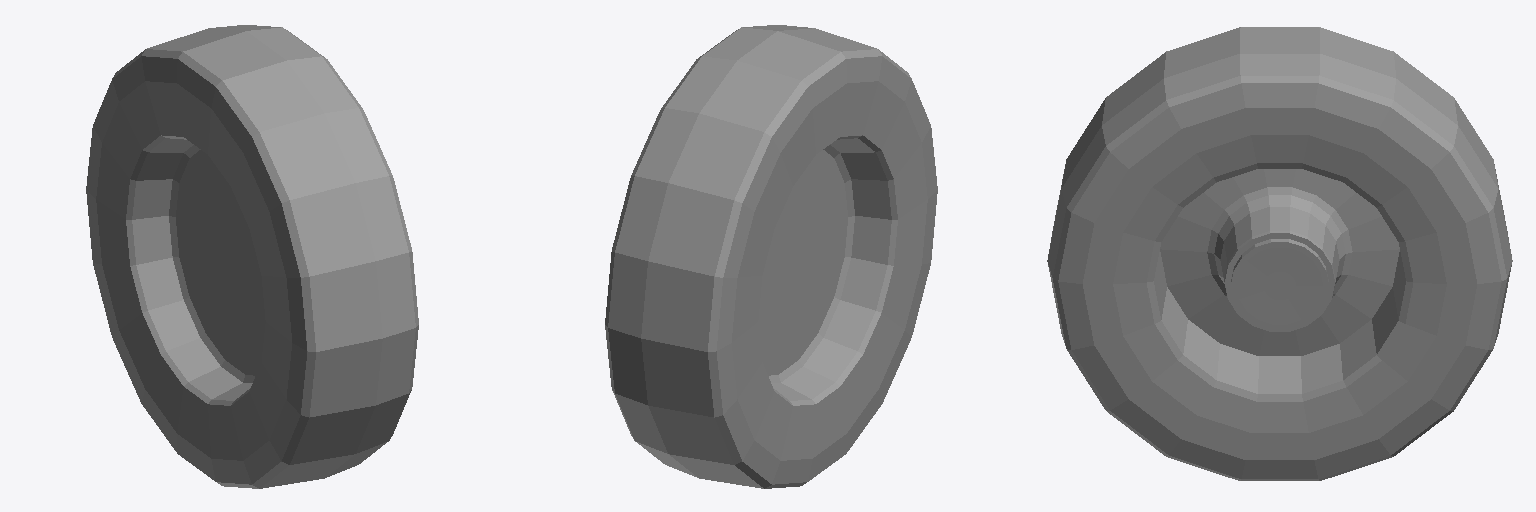
Rendered from wheel_back.obj.
The picture shows the model from 3 angles: view 1: azimuth 30°, elevation 25°; view 2: azimuth 150°, elevation 25°; view 3: azimuth 270°, elevation 25°; orthographic projection.
Visible parts, largest first — view 1: Object01.001; view 2: Object01.001; view 3: Object01.001.
Boxes of the visible parts, x1=… form: Object01.001: x1=86, y1=25, x2=418, y2=488; Object01.001: x1=605, y1=25, x2=937, y2=488; Object01.001: x1=1047, y1=27, x2=1512, y2=480.
Bounding box in the file's own units: 0.1662 × 0.534 × 0.5423.